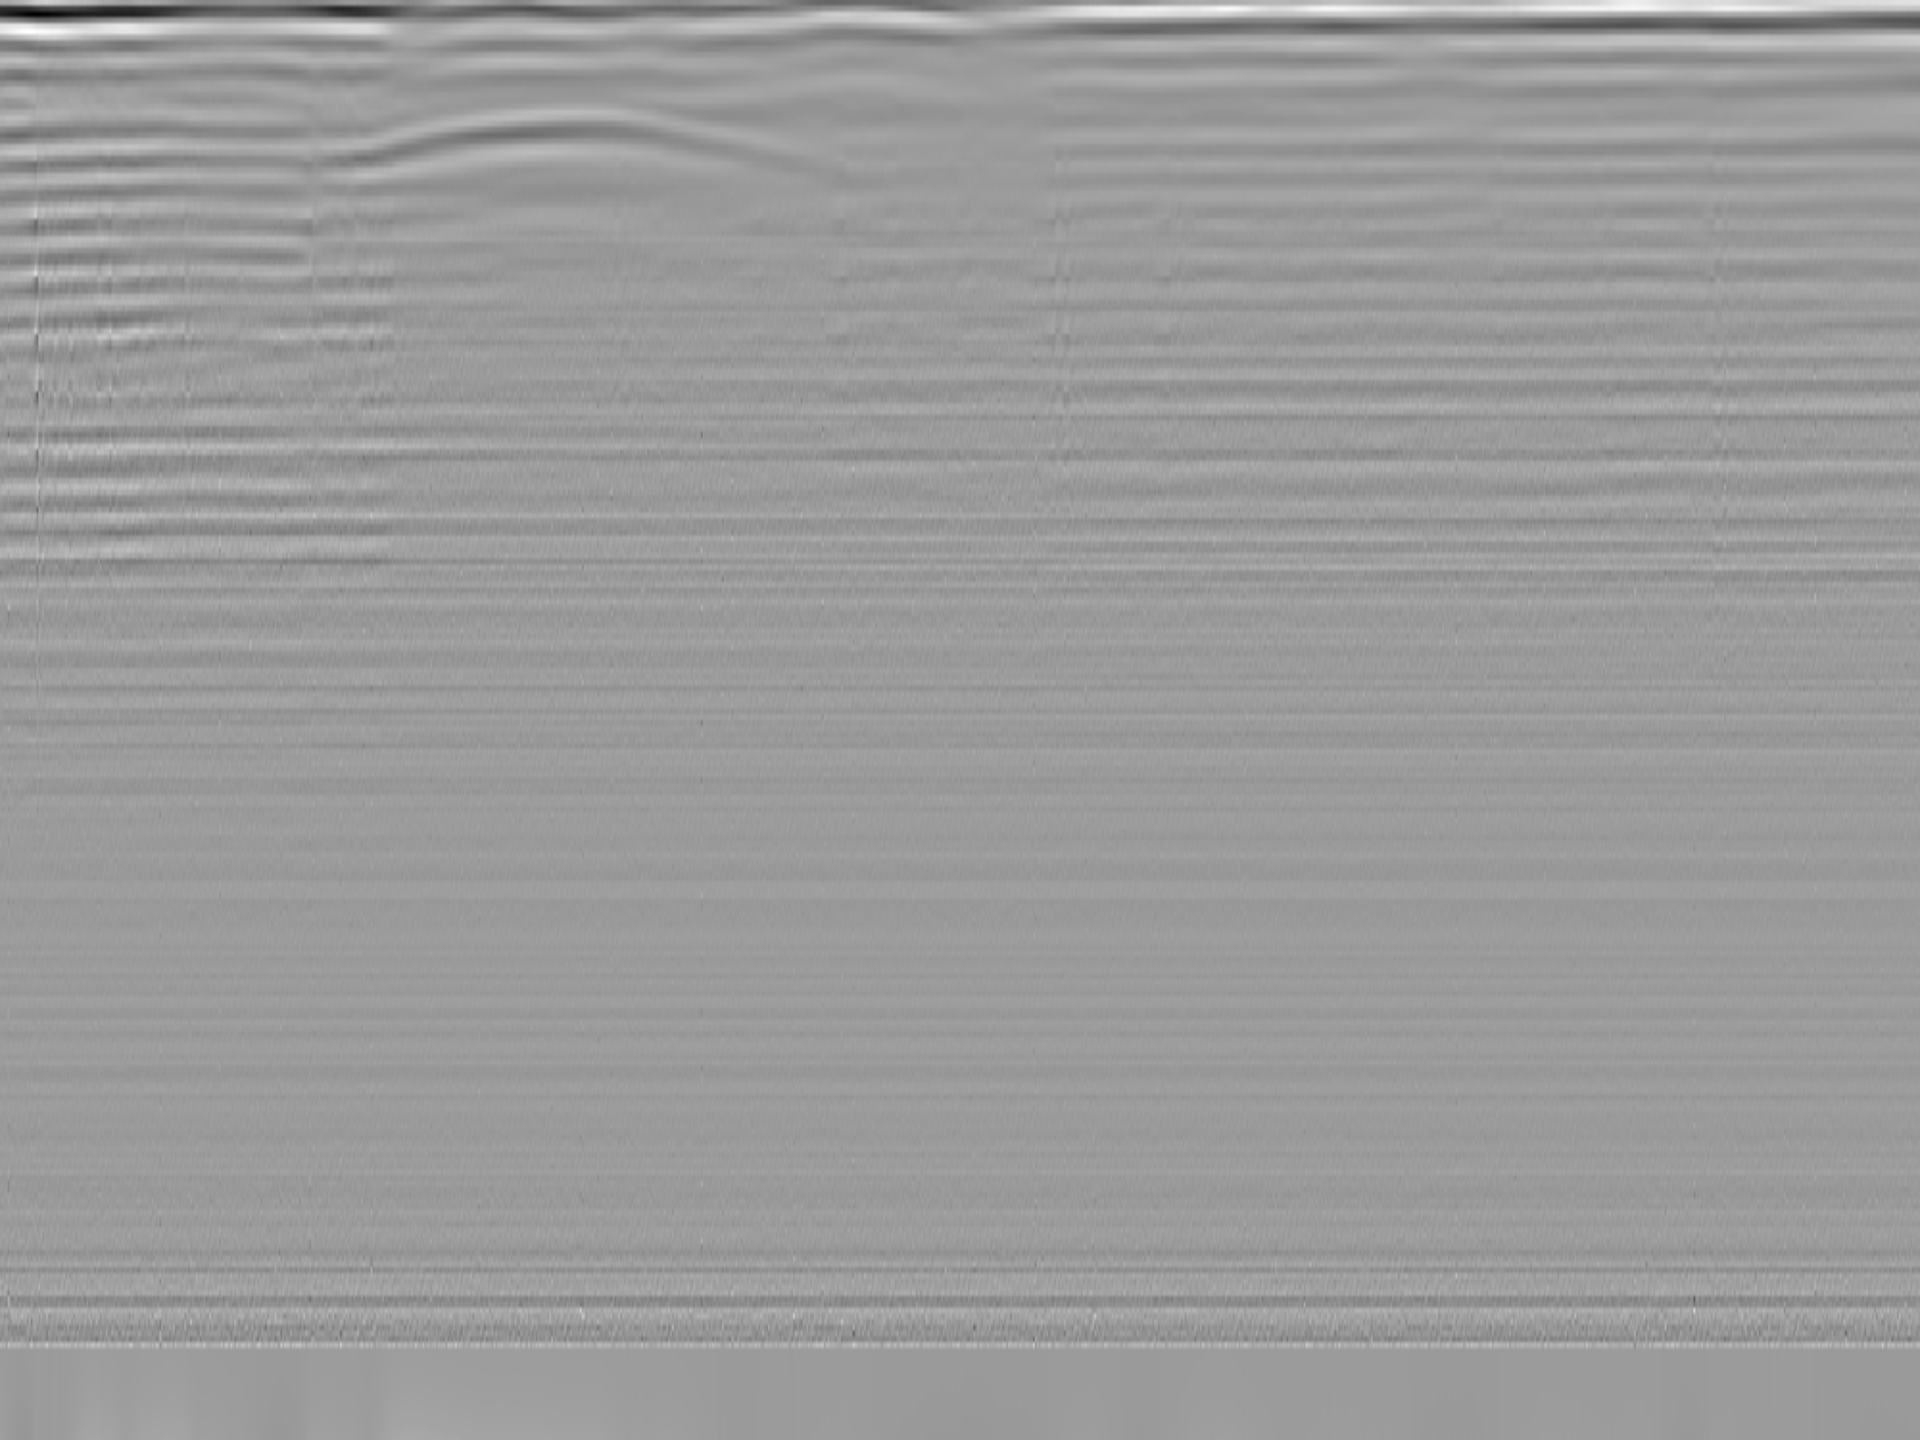Tunnel: (333, 109, 844, 178)
